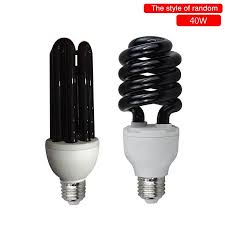bulb: (113, 33, 189, 209), (42, 35, 102, 205)
